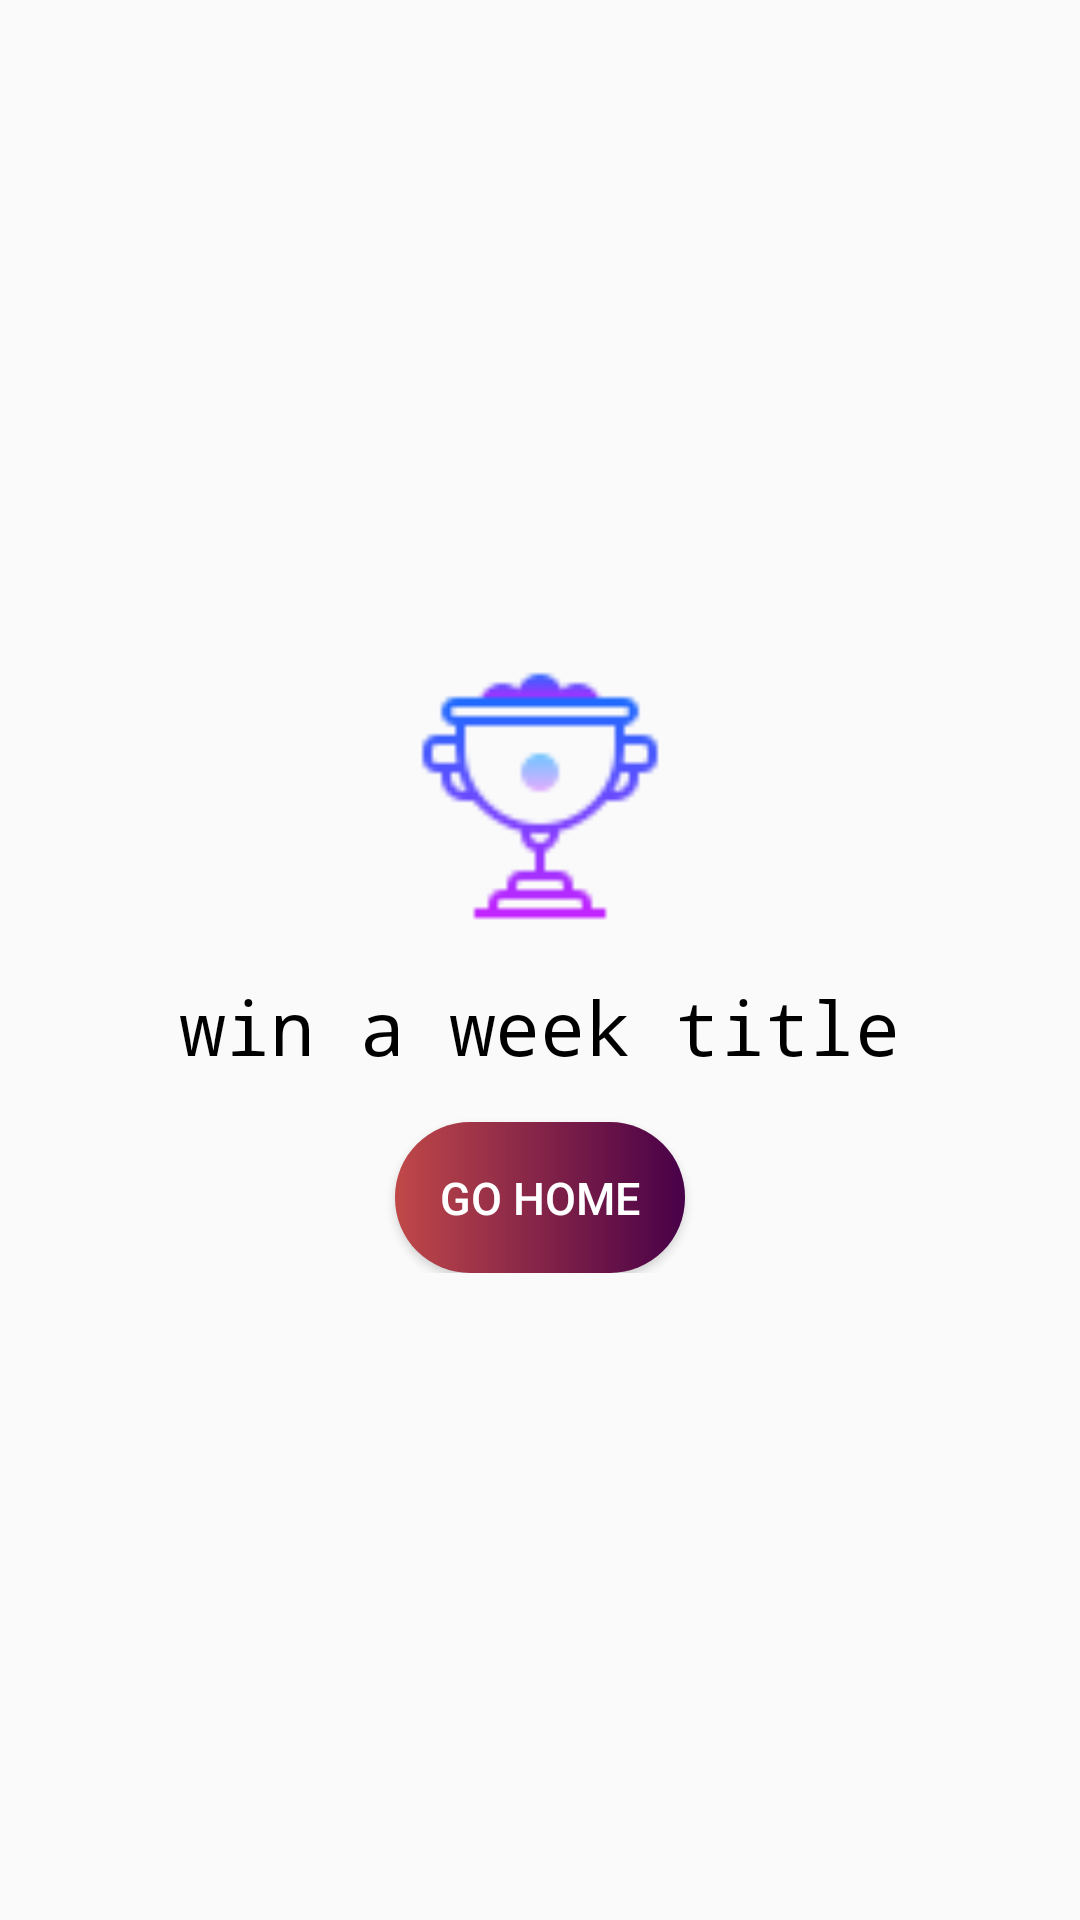

Screen size 1080×1920. Icon name, then its box in pixels as box(x1, y1, x2, y2):
winner: box(421, 672, 659, 920)
